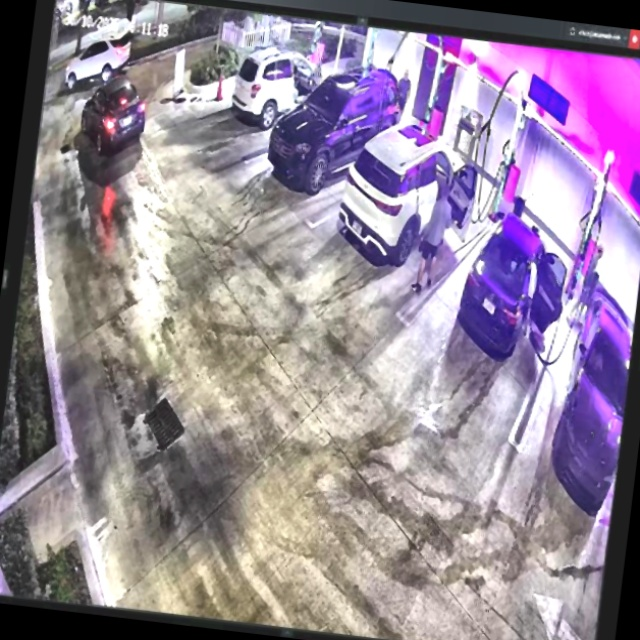Car: (336, 120, 478, 268), (266, 57, 404, 193), (454, 209, 571, 367), (77, 69, 150, 162)
